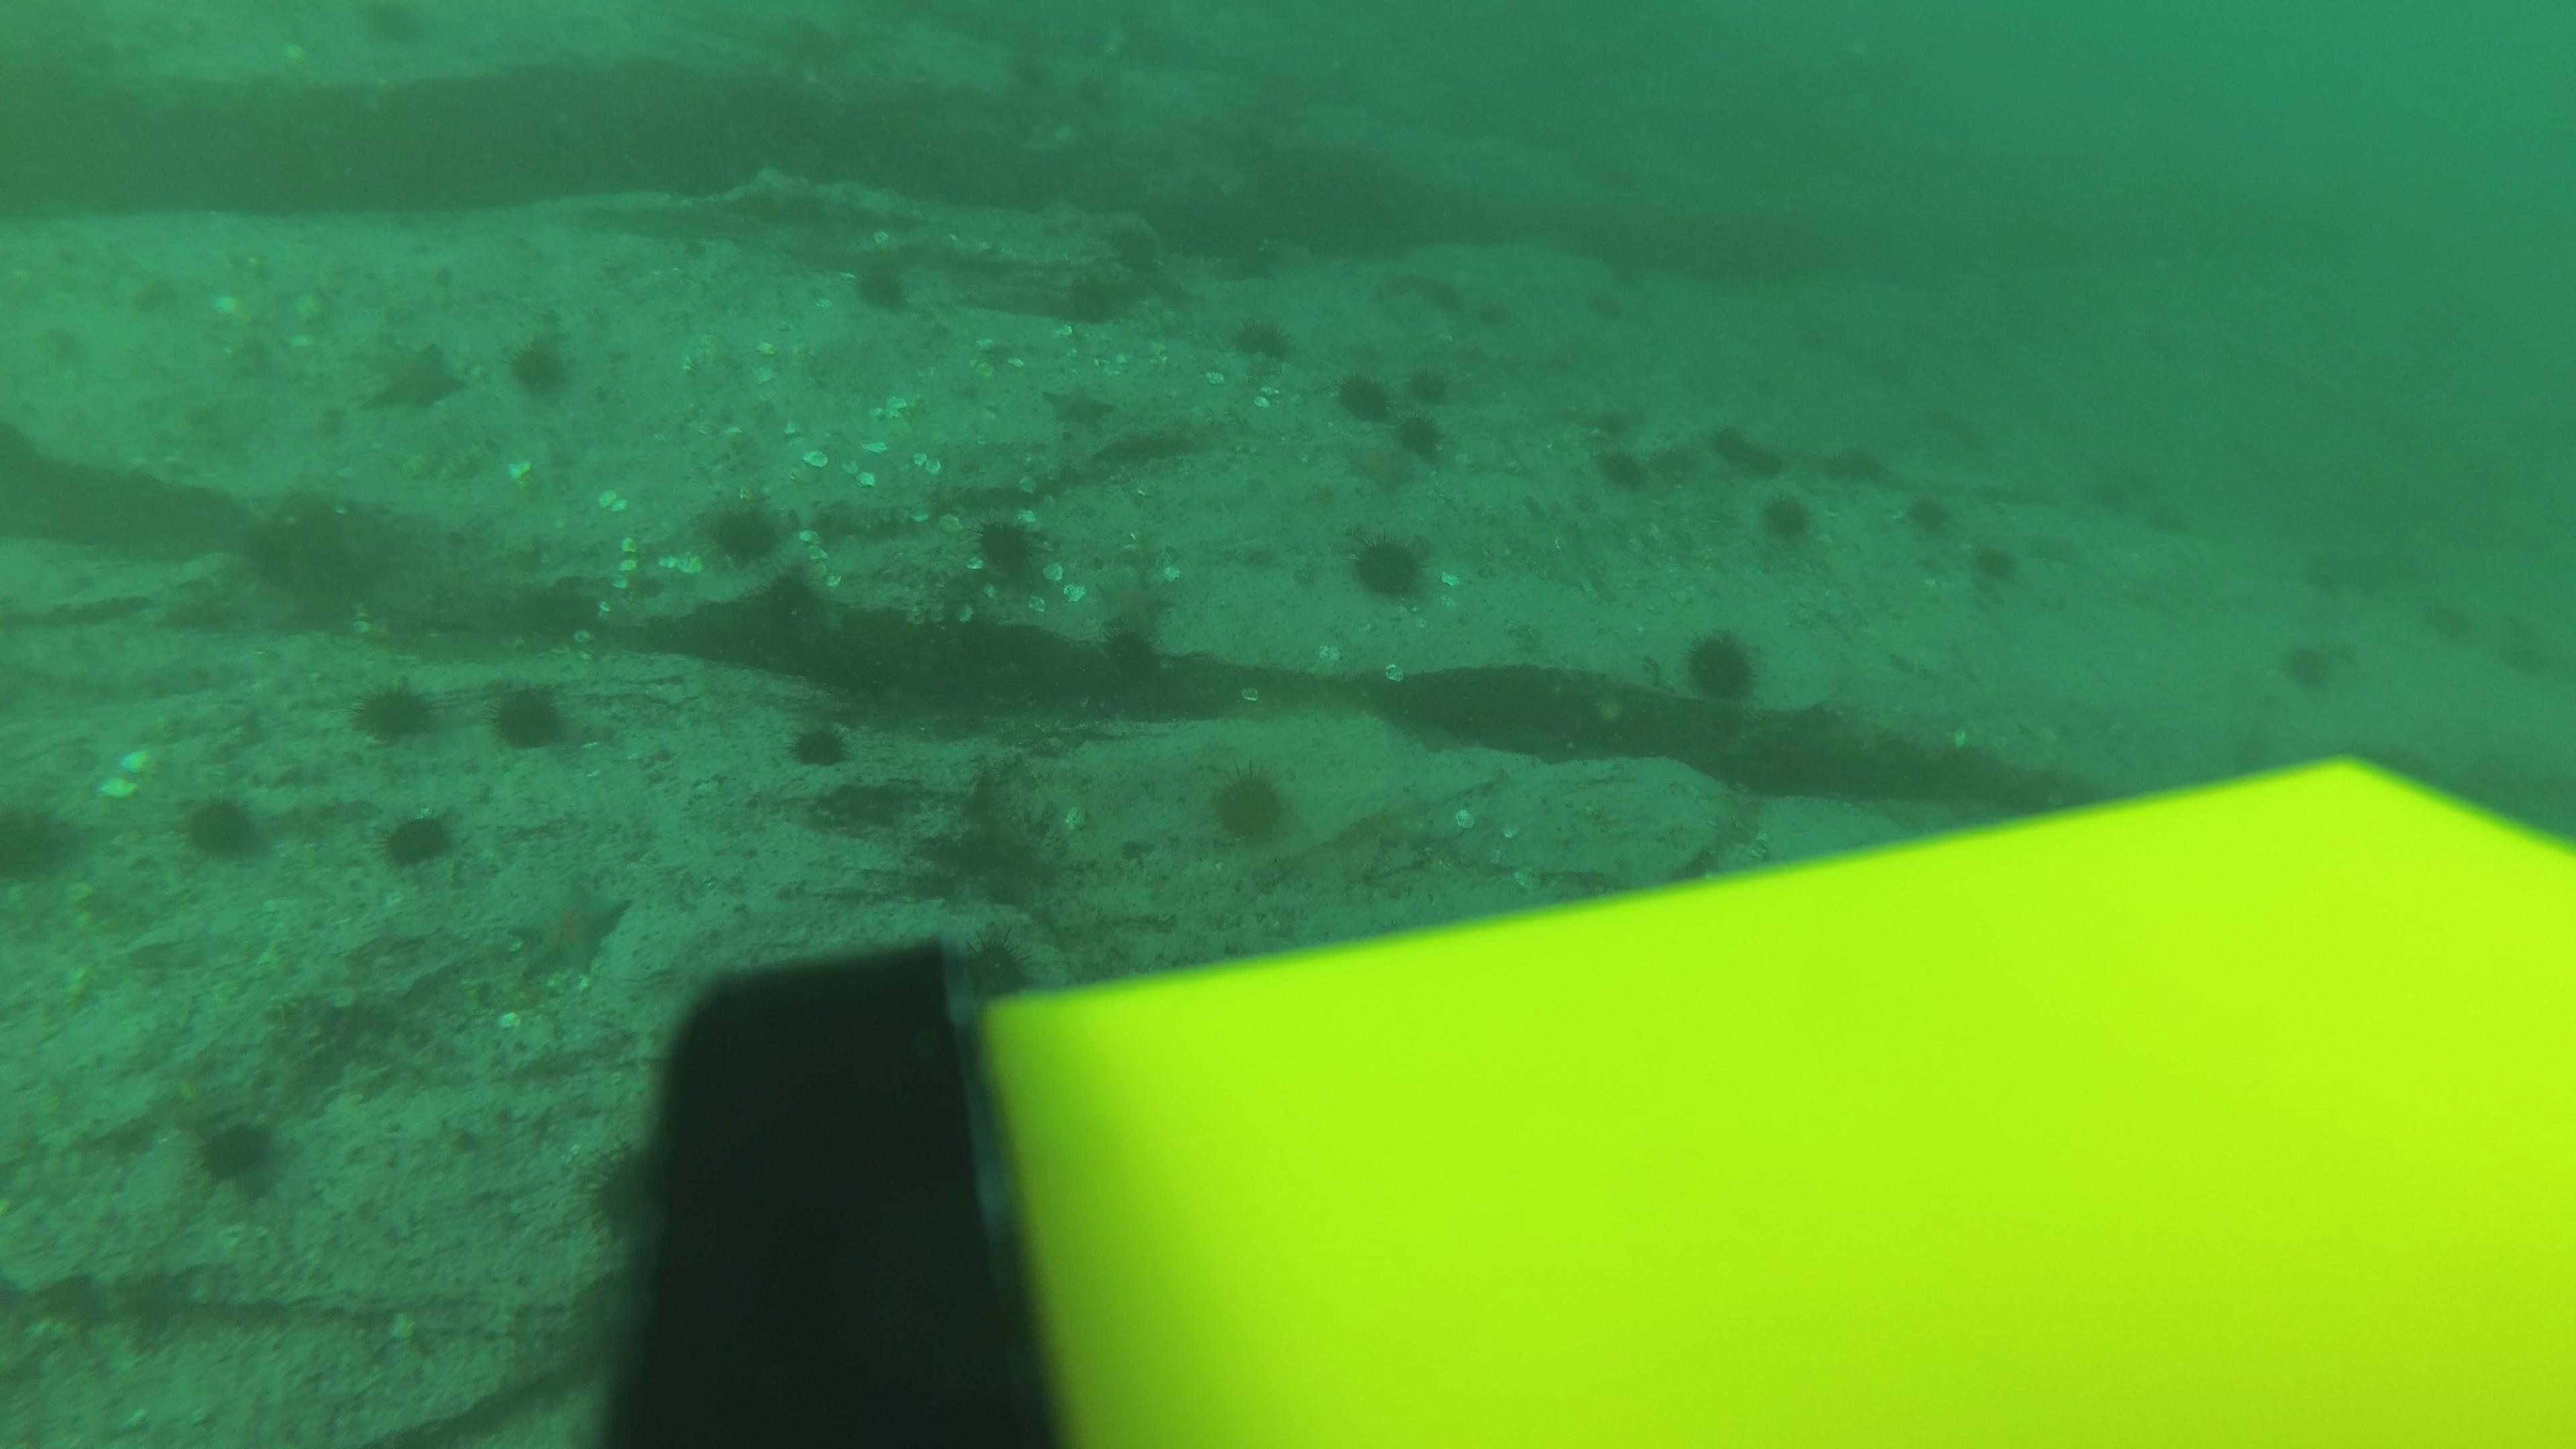echinus: (580, 1136, 672, 1253), (182, 1104, 294, 1200), (1194, 759, 1304, 855), (688, 487, 798, 575), (736, 550, 846, 639), (961, 508, 1063, 600), (170, 784, 274, 869), (481, 674, 584, 759), (0, 789, 85, 892), (938, 929, 1042, 1012), (1341, 527, 1438, 610), (1674, 625, 1767, 709), (347, 672, 444, 750), (373, 803, 464, 878), (1053, 255, 1143, 329), (840, 246, 924, 318), (502, 327, 580, 403), (777, 708, 862, 775), (2273, 632, 2350, 697), (1332, 368, 1403, 437), (1099, 214, 1171, 281), (1387, 400, 1463, 464), (1752, 487, 1822, 552), (1223, 308, 1297, 370), (1587, 435, 1656, 497), (1580, 402, 1649, 464), (1962, 536, 2026, 596), (1897, 487, 1959, 543), (2422, 593, 2482, 646), (2144, 499, 2204, 552), (2081, 474, 2141, 527), (1824, 439, 1884, 492), (1688, 410, 1748, 464), (1596, 257, 1656, 310), (370, 0, 430, 53), (1465, 283, 1525, 336), (1407, 356, 1465, 409), (1732, 430, 1790, 483), (1575, 283, 1633, 336), (1414, 269, 1472, 322)
starfish: (506, 874, 635, 985), (359, 336, 471, 419), (1088, 563, 1180, 640), (1338, 435, 1428, 497), (1037, 377, 1118, 432)
